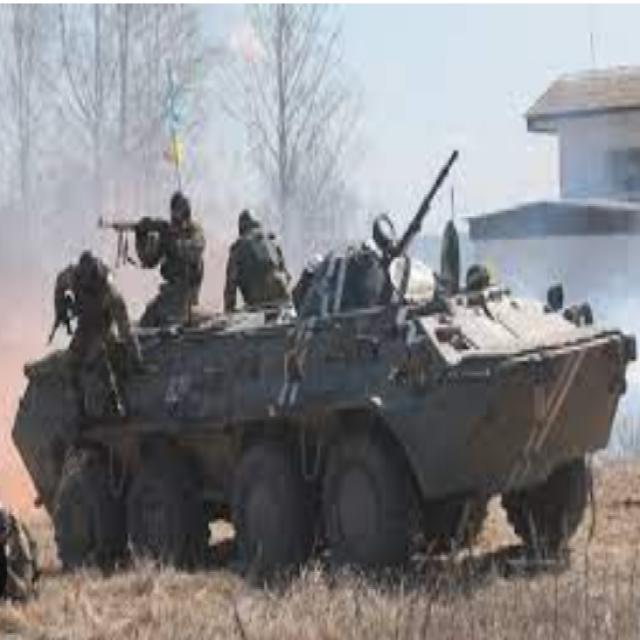MIL_APC: (14, 233, 640, 599)
